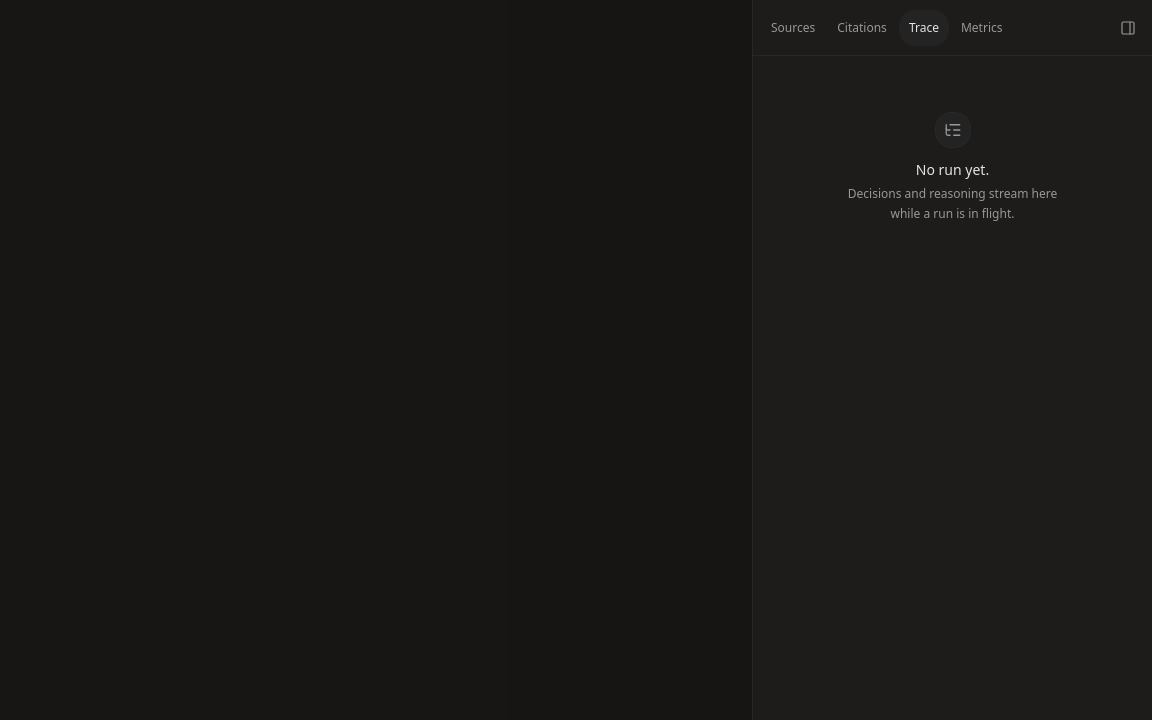
Test: trace and metrics content (KI-22) › Metrics names the run, scales units and links the decision layer
The width and height of the screenshot is (1152, 720).
Click the tab "Metrics": (982, 28) [951,10,1012,46]
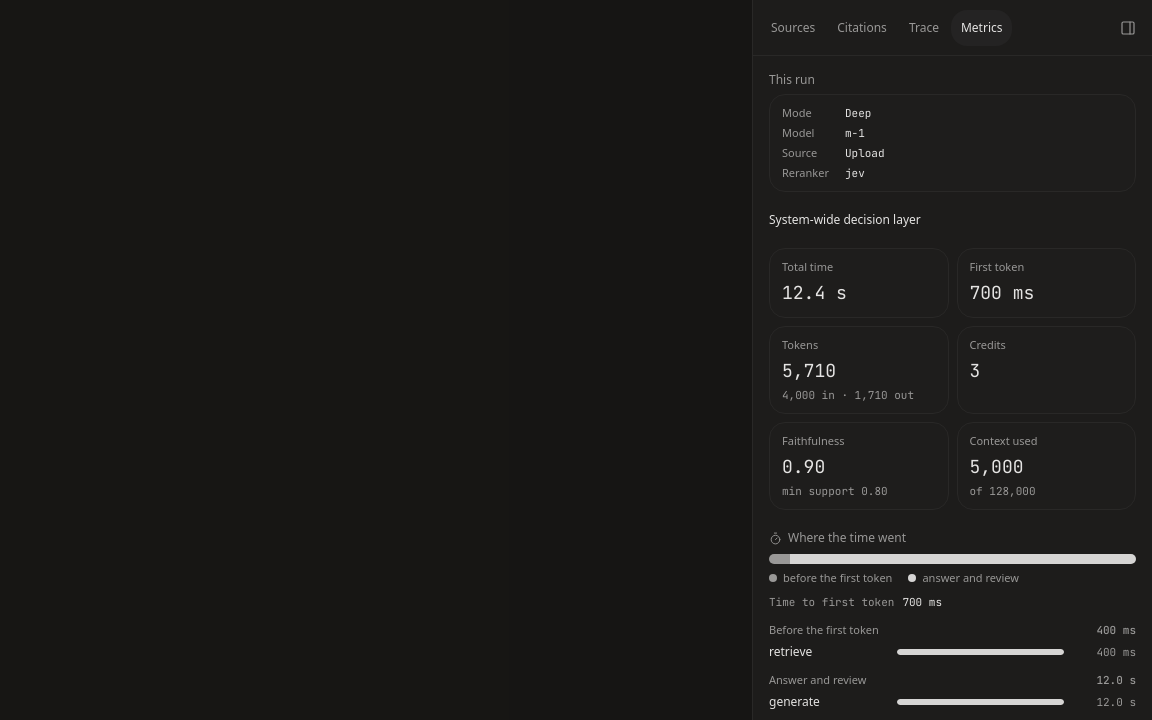
Now the text "Deep" is shown, box [845,106,871,120]
Now the text "jev" is shown, box [845,166,865,180]
Now the text "12.4 s" is shown, box [782,281,847,304]
